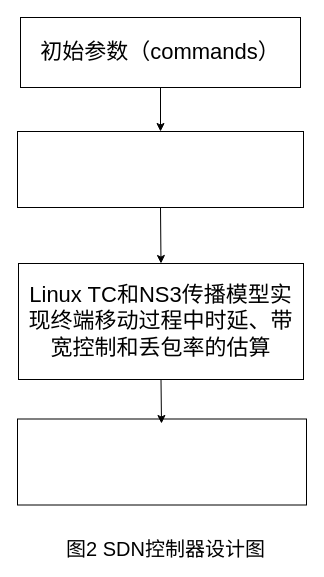
Image size: 324x577. Some labels were removed from this diagram. Each missing label, with the centre of its shape:
"OVS 流表 或 Neutron API 实现移动终端所在链路通断、网络切换" belongs at (160,169).
"导出仿真节点距离、位置、网络性能参数" belongs at (161,461).
